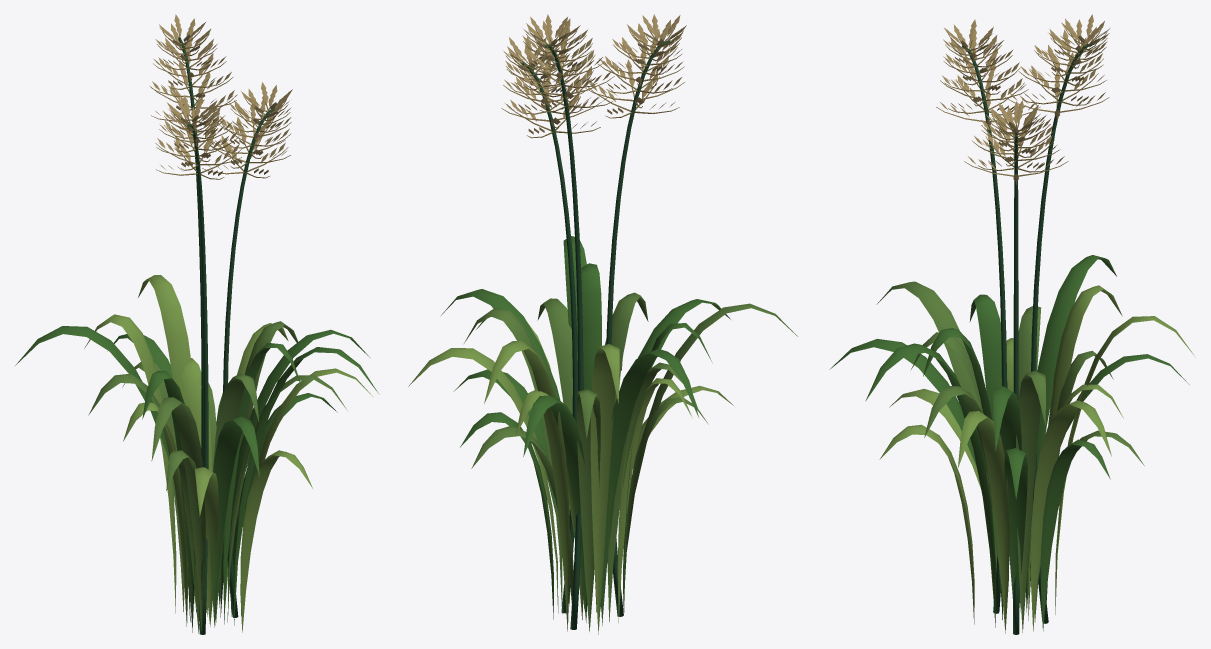
File: meadow_reed.hi.glb
3 renders of one model, left to right at view 1: azimuth 30°, elevation 25°; view 2: azimuth 150°, elevation 25°; view 3: azimuth 270°, elevation 25°, orthographic. The views are drawn at different scales.
Parts seen in each view (by area): view 1: body; view 2: body; view 3: body.
Part boxes in pixels (<box>): body: <box>15,14,379,634</box>; body: <box>408,14,797,634</box>; body: <box>829,14,1194,634</box>.
Bounding box in the file's own units: 0.5507 × 1.01 × 0.5623.
